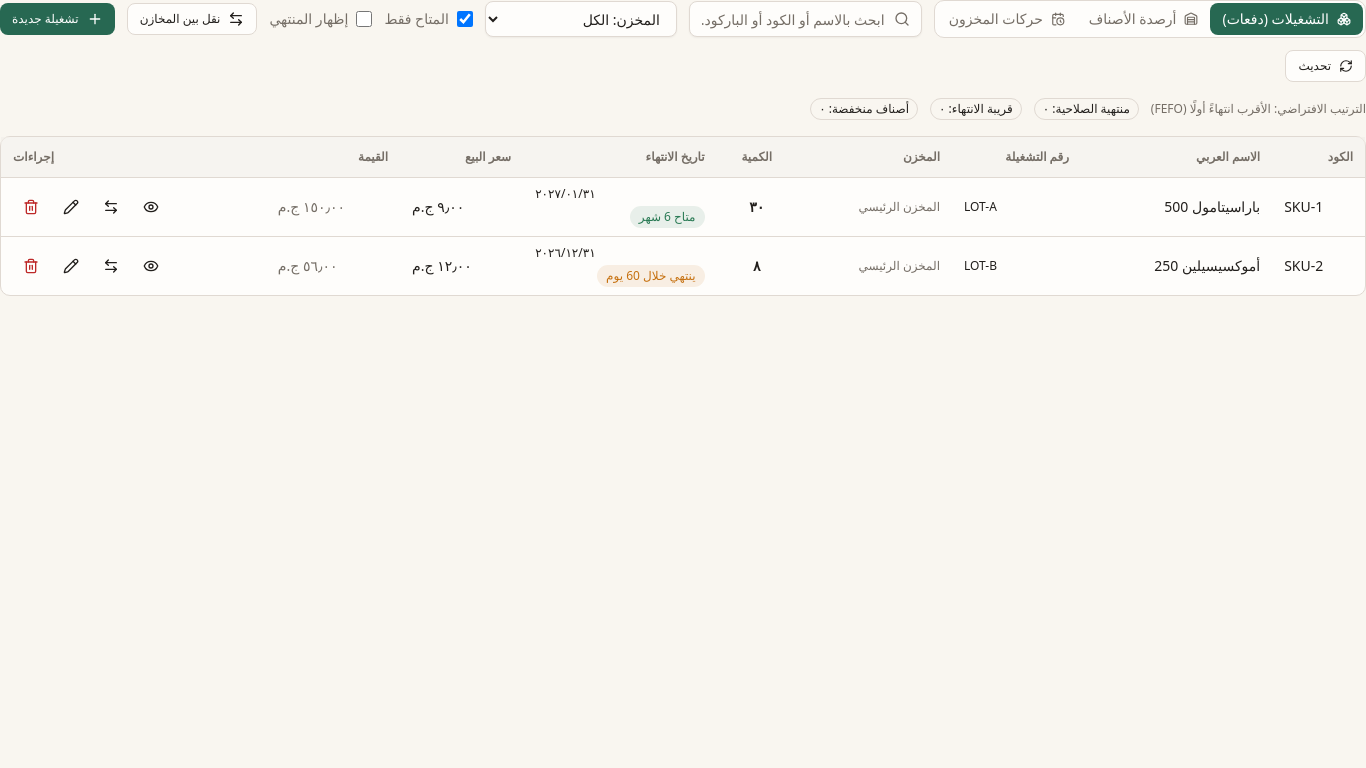
Scenario: InventoryPage transfer entry points › opens the transfer dialog from the header and from a batch row
Expected: the text "SKU-1" is shown, left=1272, top=177, right=1365, bottom=236
Click the button "نقل بين المخازن" at (192, 19), box left=127, top=3, right=257, bottom=35
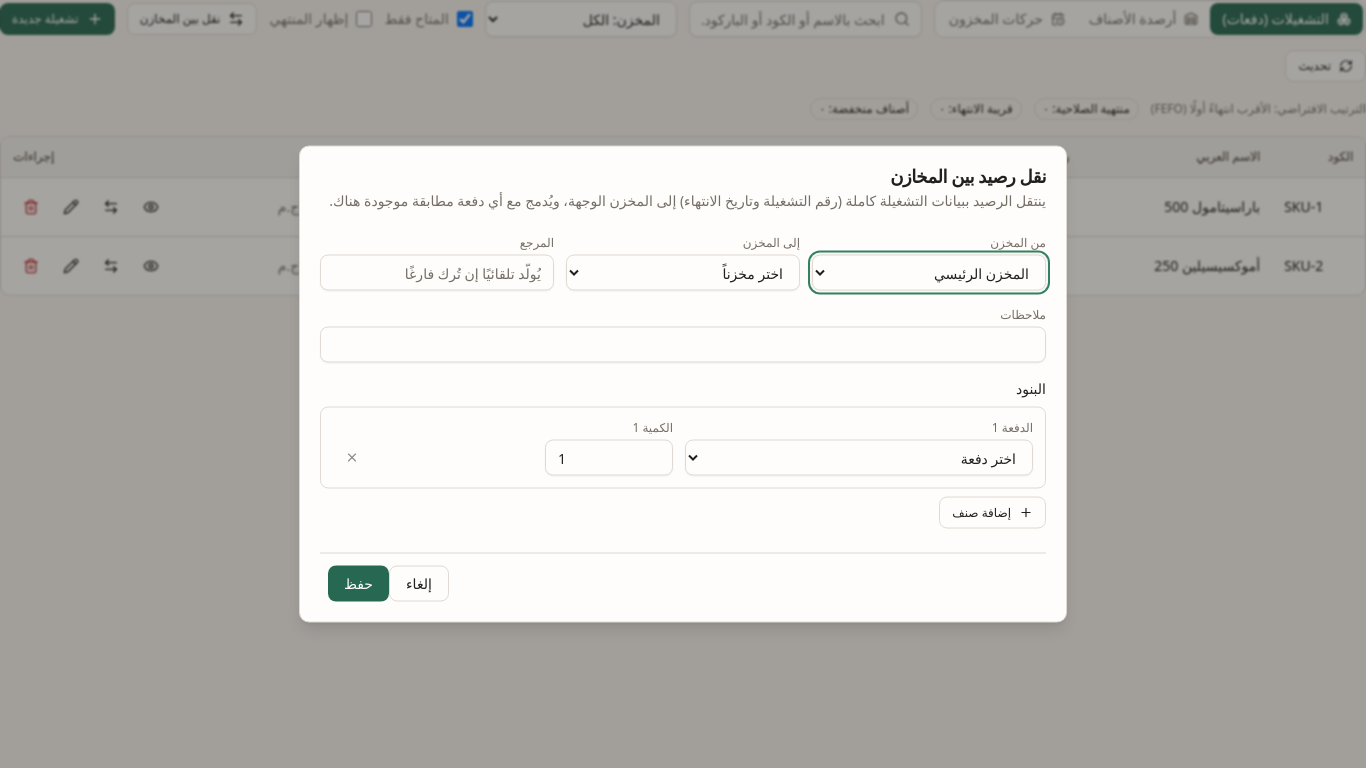
Now the heading "نقل رصيد بين المخازن" is shown, box left=890, top=164, right=1046, bottom=188
Click the button "إلغاء" at (419, 584), box left=389, top=566, right=449, bottom=602
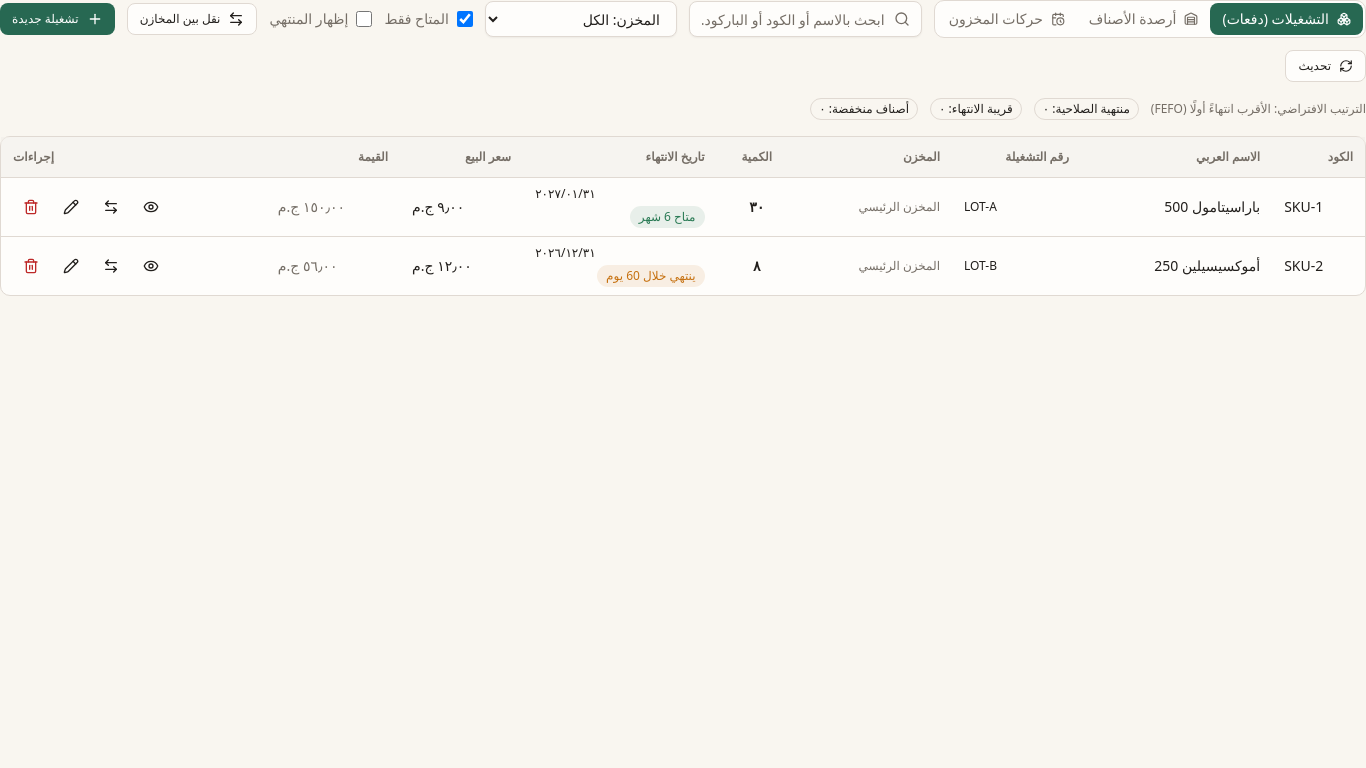
// Row entry point preselects that batch (rows render in list order).
Click the button named "نقل بين المخازن" in the row of "SKU-2" at (111, 266), box left=93, top=248, right=129, bottom=284
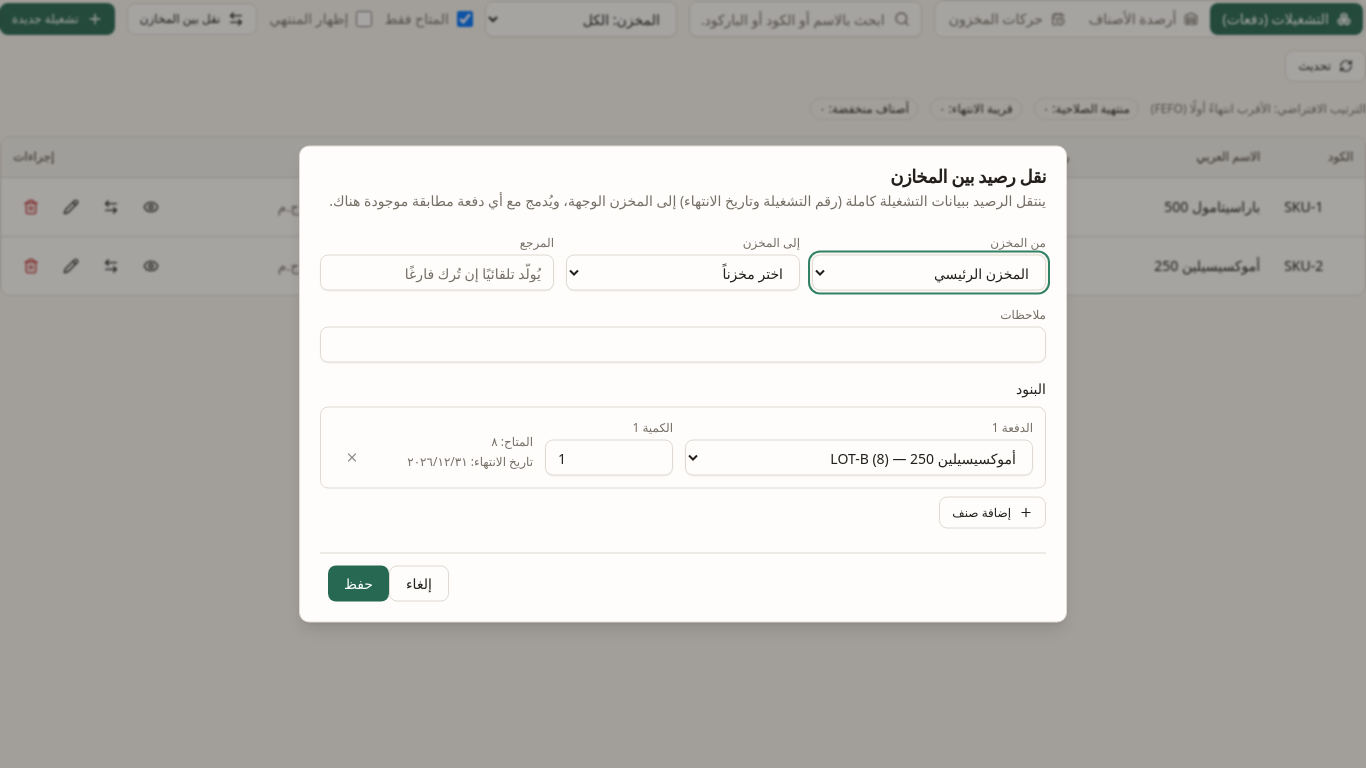
Now the heading "نقل رصيد بين المخازن" is shown, box left=890, top=164, right=1046, bottom=188
